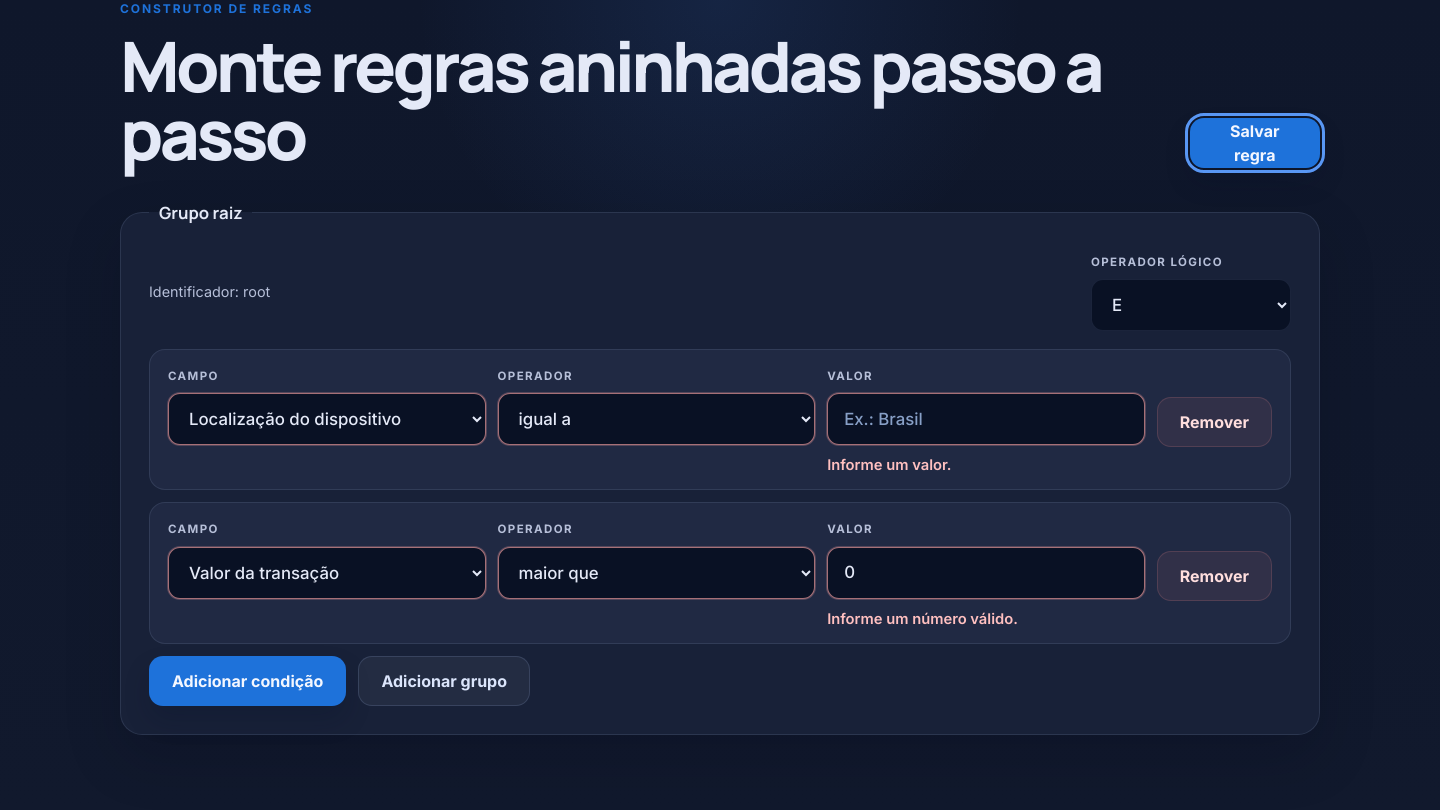
Test: RuleBuilder › shows plural save feedback when more than one condition is invalid
Click the button "Salvar regra" at (1255, 143), box [1190,118,1320,168]
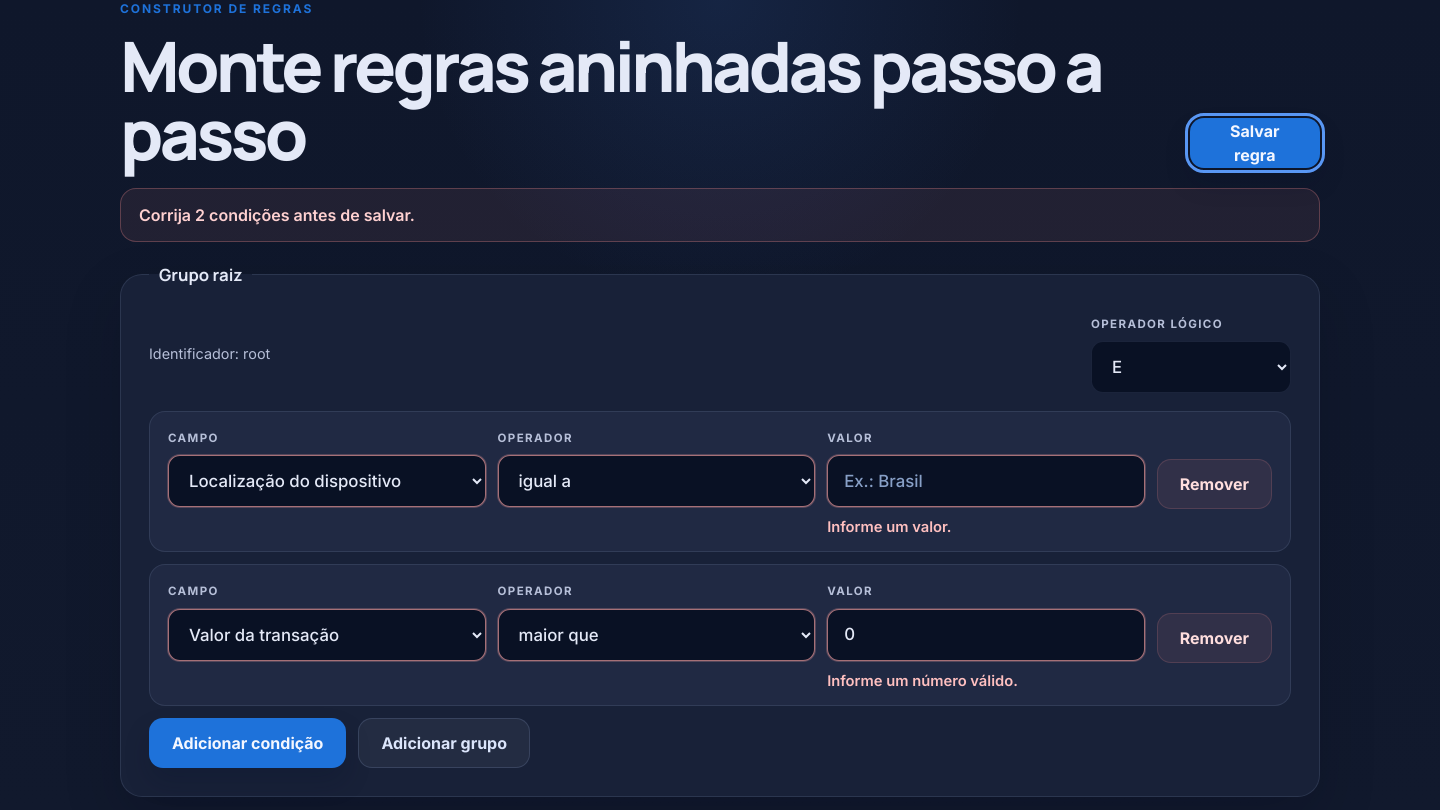
Expected: the text "Corrija 2 condições antes de salvar." is shown, [120,188,1320,242]
